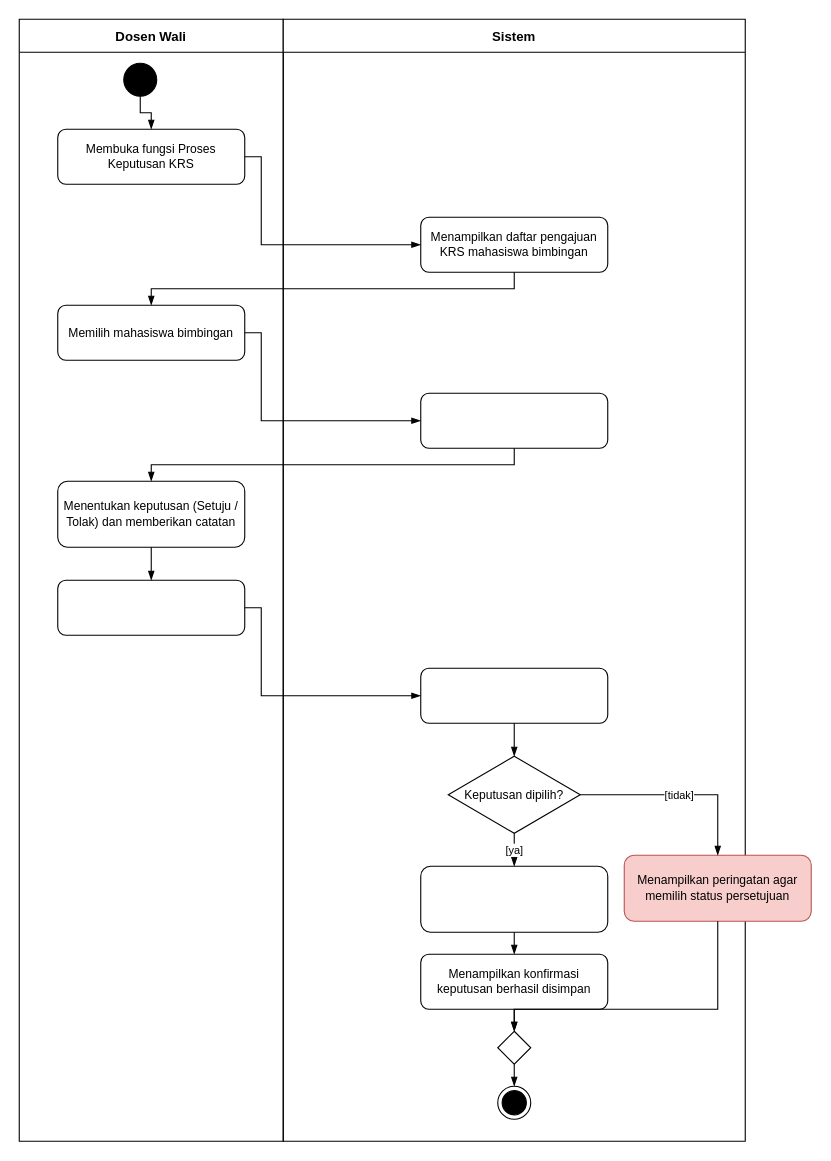
This 831x1161 diagram has some shape labels left out. Each missing label, with the centre of its shape:
Memeriksa kelengkapan pilihan keputusan: point (514, 695)
Memperbarui status pengajuan KRS dan menyimpan catatan: point (514, 898)
Menampilkan rincian rencana studi dan histori akademik: point (514, 420)
Menyimpan keputusan: point (151, 607)
